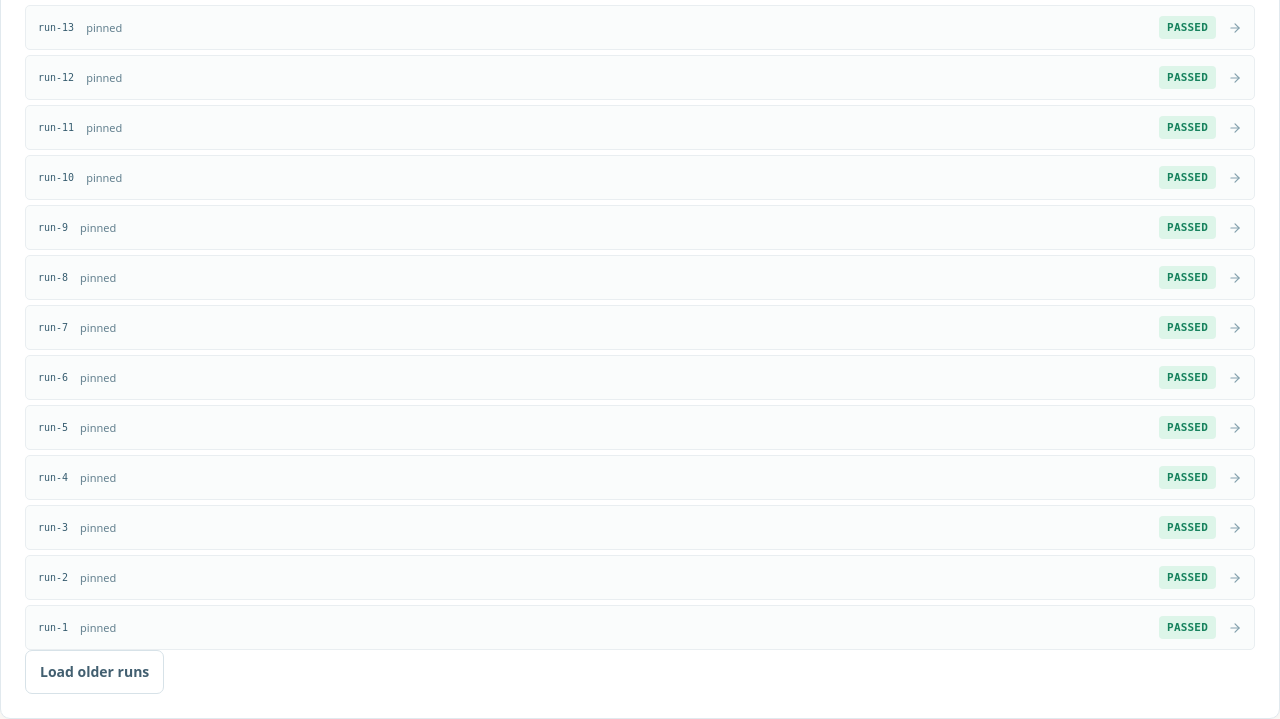
Test: older history uses a stable run anchor and deduplicates overlapping responses
(page scrolled)
Step 1. Click the button "Load older runs" → (95, 672), box 25,650 -> 164,694
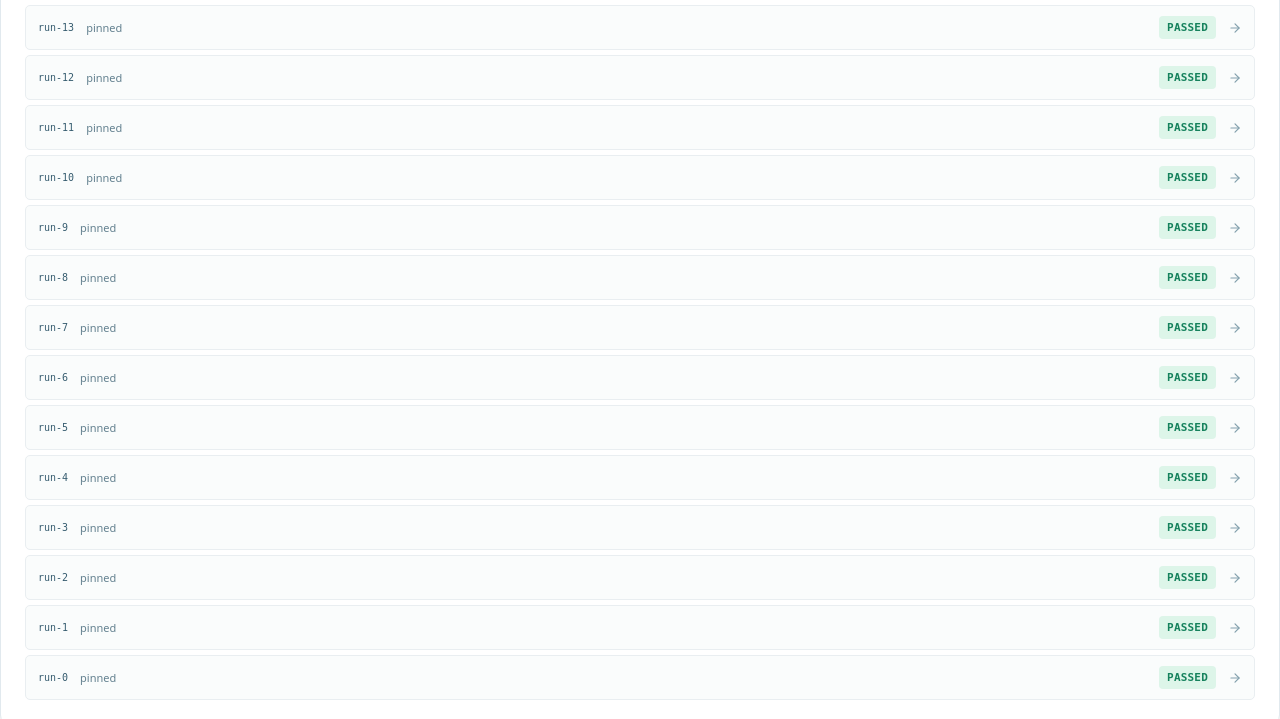
Check: the text "run-0" is shown, box 38,670 -> 68,685
Check: the text "run-1" is shown once, box 38,620 -> 68,635
